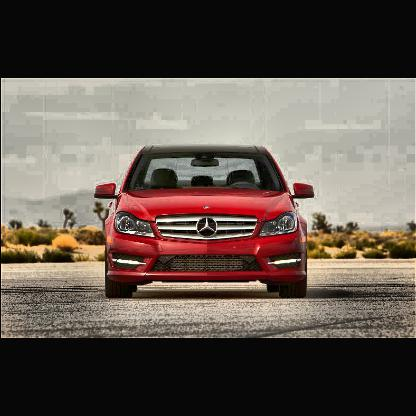Mercedes-Benz C-Class Sedan 2012: (88, 132, 332, 315)
